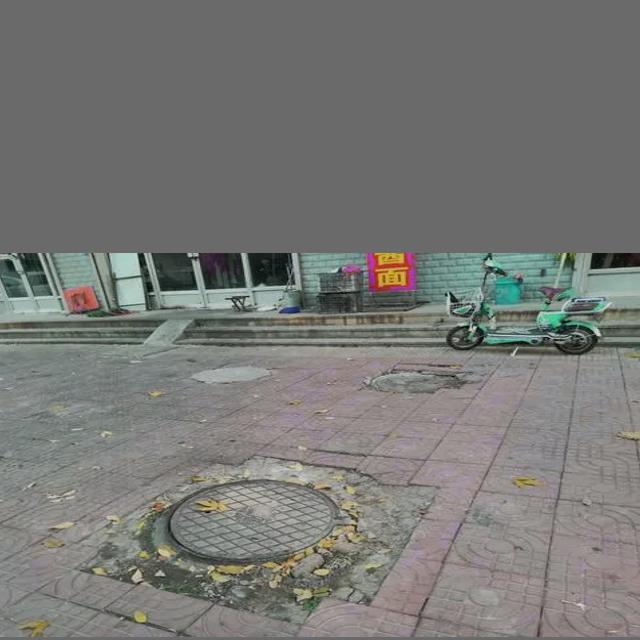circle: (102, 454, 423, 618)
